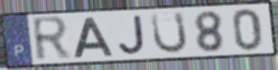0: (231, 7, 264, 52)
8: (192, 9, 225, 54)
A: (73, 16, 115, 59)
J: (117, 14, 147, 56)
R: (30, 15, 73, 64)
U: (150, 11, 190, 55)
